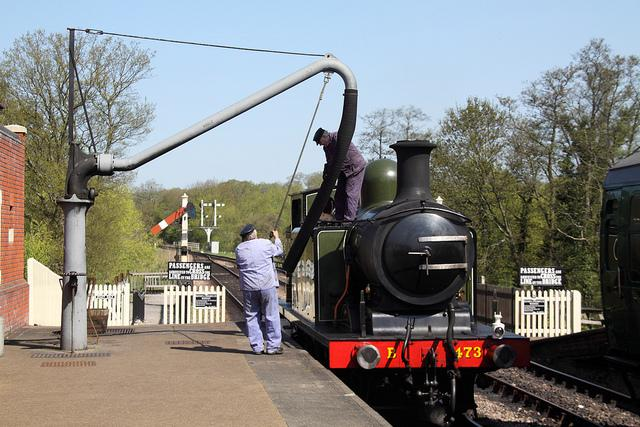Train: (285, 143, 535, 419)
